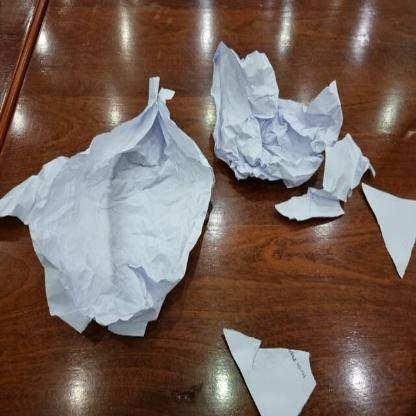trash: (0, 73, 215, 342), (206, 36, 340, 186), (218, 318, 316, 416), (360, 175, 416, 276), (275, 183, 348, 228), (324, 138, 367, 201)
